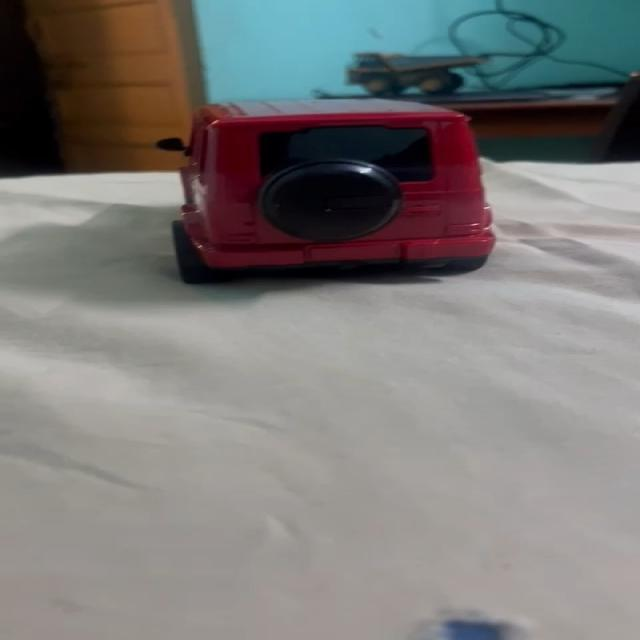dump_truck: (344, 46, 486, 95)
light_vehicle: (154, 100, 502, 277)
